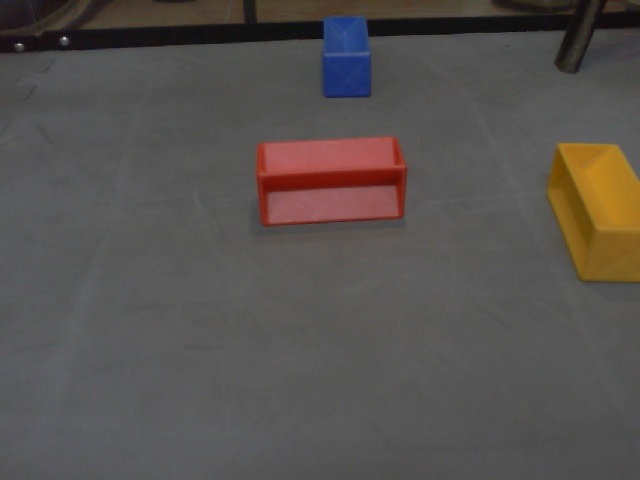BlueSample: (320, 14, 373, 99)
RedSample: (254, 134, 409, 226)
YellowSample: (544, 139, 640, 286)
